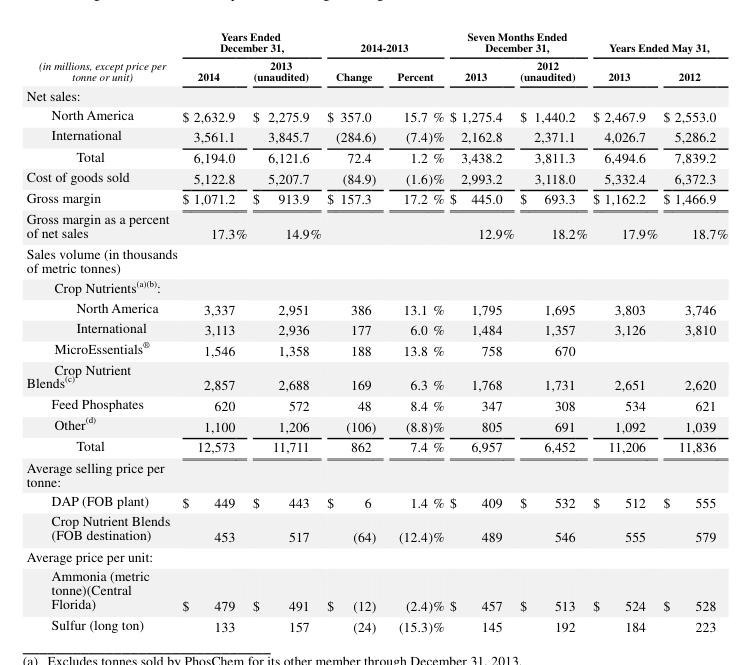table: (25, 28, 727, 634)
table column: (25, 28, 175, 634), (175, 28, 249, 634), (249, 28, 323, 634), (516, 28, 589, 634), (446, 28, 516, 634), (589, 28, 659, 634), (659, 28, 727, 634), (323, 28, 385, 634), (385, 28, 446, 634)
table column header: (25, 28, 727, 84)
table projected row header: (25, 456, 727, 490), (25, 242, 727, 275), (25, 275, 727, 296), (25, 545, 727, 565), (25, 84, 727, 103)
table row: (25, 565, 727, 613), (25, 207, 727, 242), (25, 510, 727, 545), (25, 359, 727, 393), (25, 456, 727, 490), (25, 242, 727, 275), (25, 28, 727, 56), (25, 56, 727, 84), (25, 165, 727, 187), (25, 337, 727, 359), (25, 413, 727, 435), (25, 103, 727, 124), (25, 124, 727, 145), (25, 275, 727, 296), (25, 296, 727, 317), (25, 435, 727, 456), (25, 613, 727, 634), (25, 145, 727, 165), (25, 187, 727, 207), (25, 317, 727, 337), (25, 393, 727, 413), (25, 490, 727, 510), (25, 545, 727, 565), (25, 84, 727, 103)
table spanning cell: (25, 28, 175, 84), (175, 28, 323, 56), (446, 28, 589, 56), (589, 28, 727, 56), (323, 28, 446, 56)
